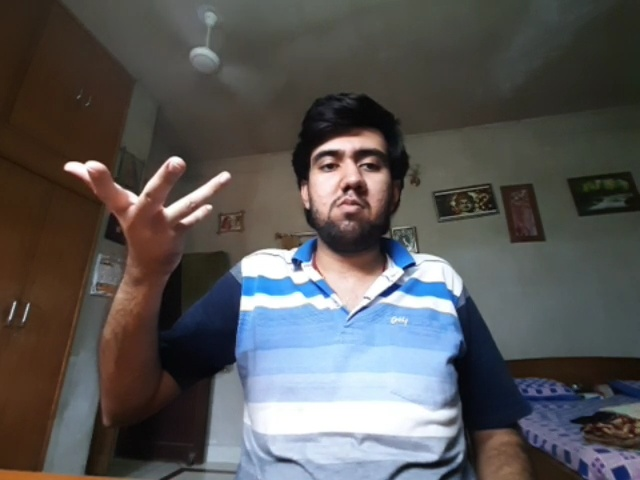What: (64, 156, 232, 268)
